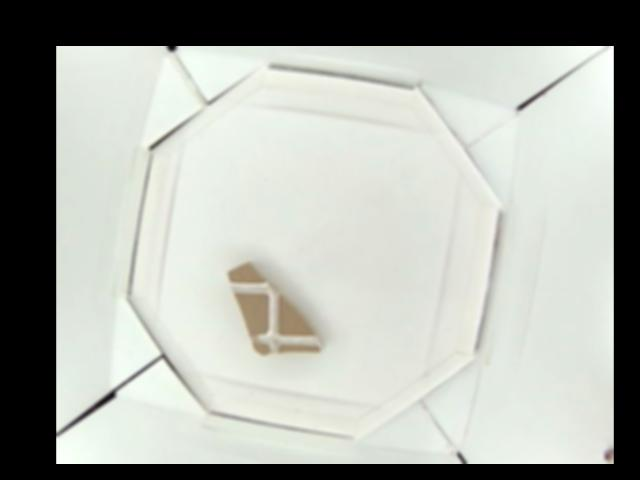China: (226, 262, 320, 356)
